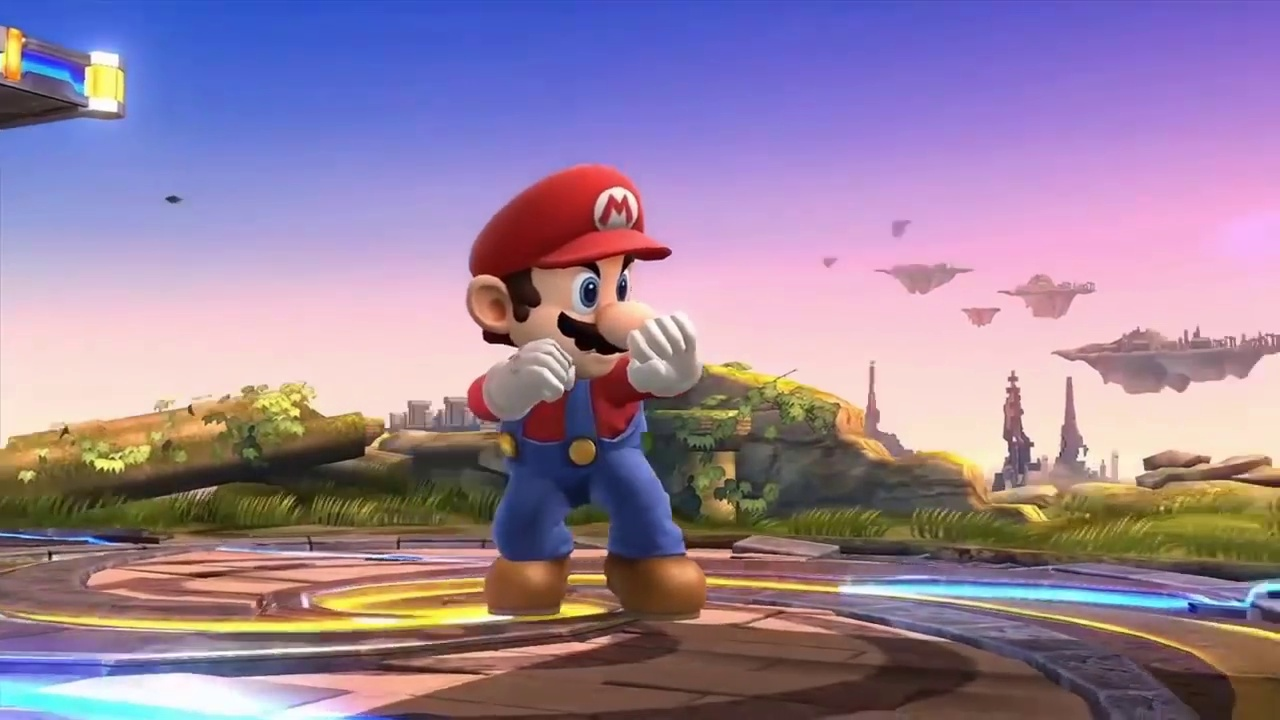Mario: (465, 164, 705, 618)
